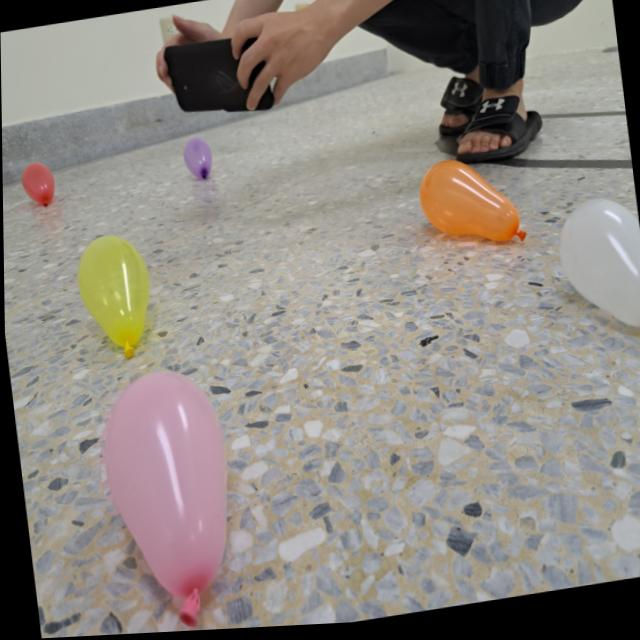other: (92, 360, 244, 636), (554, 196, 640, 365), (415, 154, 525, 261), (73, 229, 156, 367), (179, 136, 214, 185)
red: (18, 158, 55, 211)
